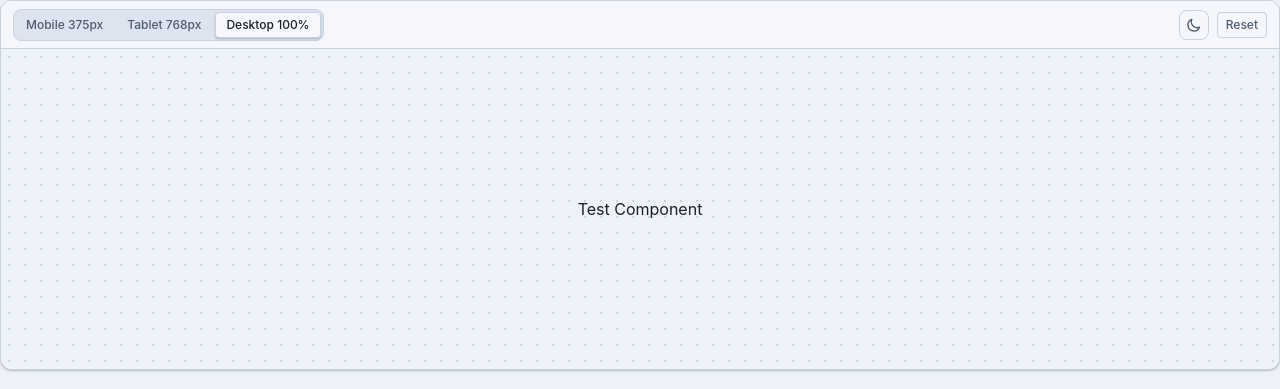
Test case: PreviewStage › renders viewport segmented controls and updates width container
The image size is (1280, 389).
Click Mobile 375px
What coordinates should you click on to do the following:
click the radio button labelled "Mobile 375px"
I would click on:
 (65, 24)
Its box is x1=16 y1=12 x2=113 y2=36.
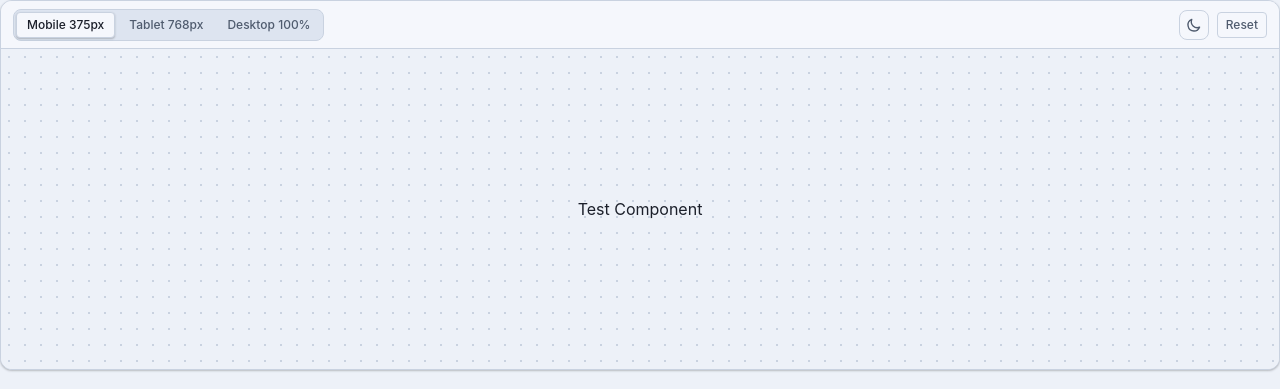
Expected: the radio button labelled "Mobile 375px" is checked, x1=16 y1=12 x2=115 y2=38
Expected: the radio button labelled "Desktop 100%" is not checked, x1=217 y1=12 x2=320 y2=36
Click Tablet 768px
What coordinates should you click on to do the following:
click the radio button labelled "Tablet 768px"
I would click on:
 (166, 24)
Its box is x1=119 y1=12 x2=214 y2=36.
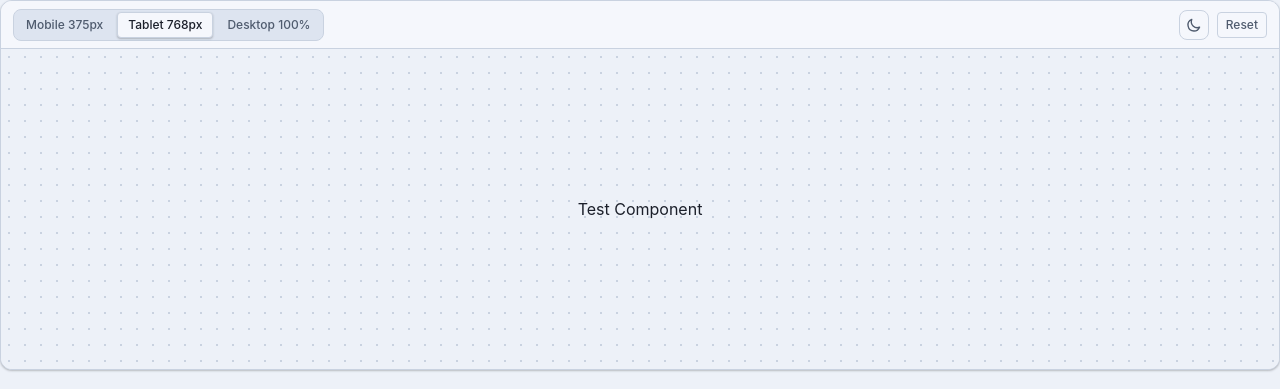
Expected: the radio button labelled "Tablet 768px" is checked, x1=117 y1=12 x2=214 y2=38
